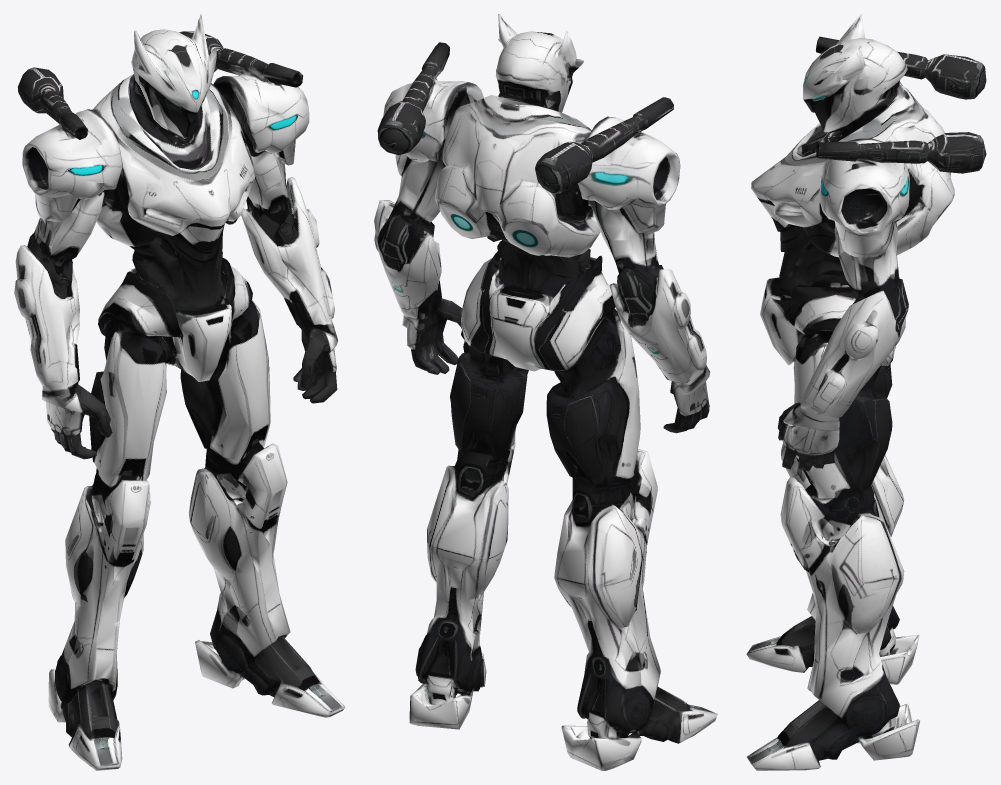
File: inimigo.glb
3 renders of one model, left to right at view 1: azimuth 30°, elevation 25°; view 2: azimuth 150°, elevation 25°; view 3: azimuth 270°, elevation 25°, orthographic. The views are drawn at different scales.
Bounding box in the file's own units: 0.8572 × 1.9 × 0.6055.
Materials: 1 (1 with a texture image).
